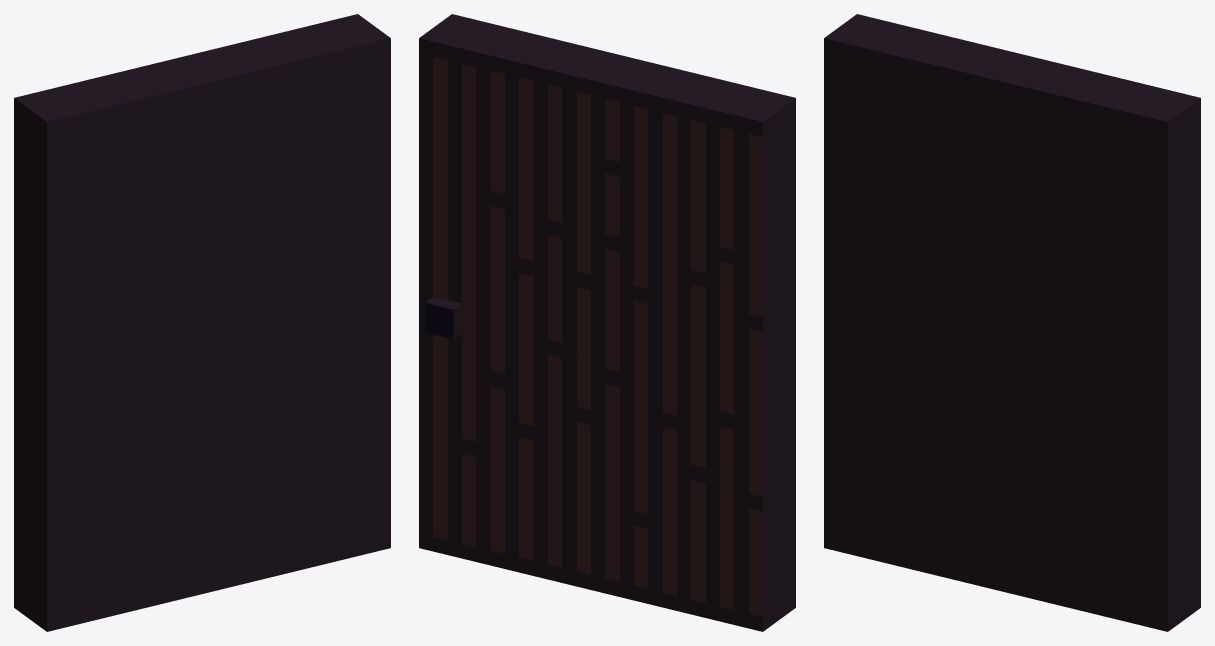
File: door.gltf
The picture shows the model from 3 angles, left to right: view 1: azimuth 30°, elevation 25°; view 2: azimuth 150°, elevation 25°; view 3: azimuth 330°, elevation 25°; orthographic projection.
Visible parts, largest first — view 1: cuboid; view 2: cuboid (×2); view 3: cuboid.
Part boxes in pixels (left/top/right/bottom): cuboid: left=14, top=14, right=390, bottom=631; cuboid (×2): left=419, top=14, right=795, bottom=631; cuboid: left=824, top=14, right=1200, bottom=631.
Bounding box in the file's own units: 0.75 × 1.06 × 0.1562.
2 materials, 2 textured.
